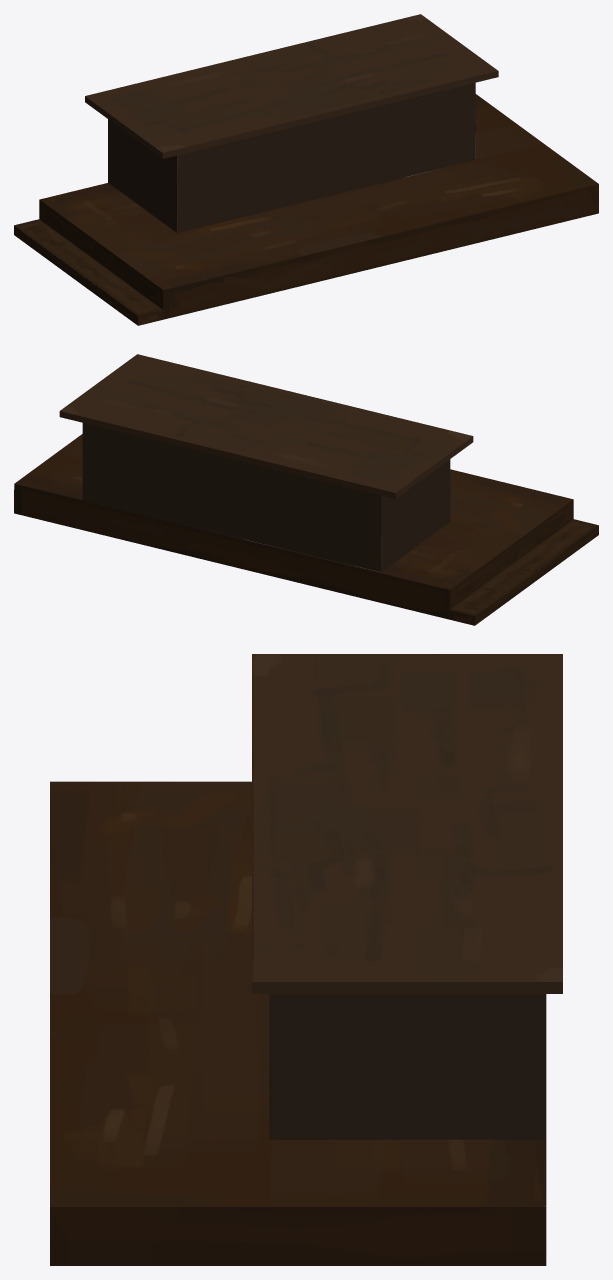
File: table.fbx
3 views of the same model, one above another, from view 1: azimuth 30°, elevation 25°; view 2: azimuth 150°, elevation 25°; view 3: azimuth 270°, elevation 25° (orthographic). The views are drawn at different scales.
Parts seen in each view (by area): view 1: Cube; view 2: Cube; view 3: Cube.
Boxes of the visible parts, box(x1,y1,x2,y2) form: Cube: box(14, 14, 598, 325); Cube: box(14, 354, 598, 625); Cube: box(50, 654, 562, 1265).
Bounding box in the file's own units: 889 × 217 × 429.
